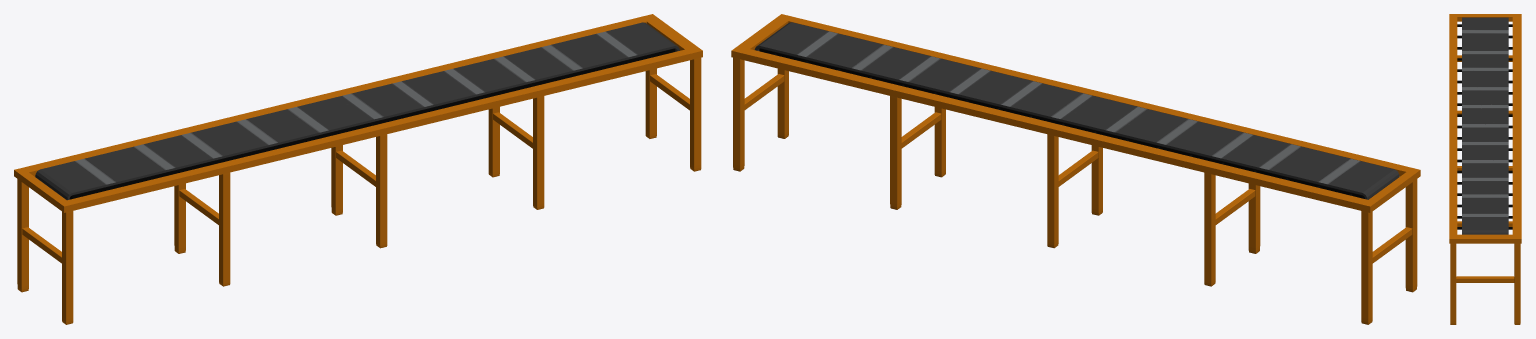
Rendered from destination-line.fbx.
The picture shows the model from 3 angles, left to right: view 1: azimuth 30°, elevation 25°; view 2: azimuth 150°, elevation 25°; view 3: azimuth 270°, elevation 25°; orthographic projection. The views are drawn at different scales.
Visible parts, largest first — view 1: Geruest, Band, Halterung; view 2: Geruest, Band, Halterung; view 3: Band, Geruest, Geruesthalterung.
Boxes of the visible parts, box(x1,y1,x2,y2) form: Geruest: box(14, 14, 702, 324); Band: box(35, 22, 679, 200); Halterung: box(69, 48, 675, 199); Geruest: box(731, 14, 1420, 324); Band: box(754, 22, 1399, 199); Halterung: box(759, 48, 1364, 198); Band: box(1462, 17, 1508, 234); Geruest: box(1449, 14, 1521, 324); Geruesthalterung: box(1457, 24, 1512, 229).
Bounding box in the file's own units: 1228 × 225 × 167.
3 materials, 1 textured.
